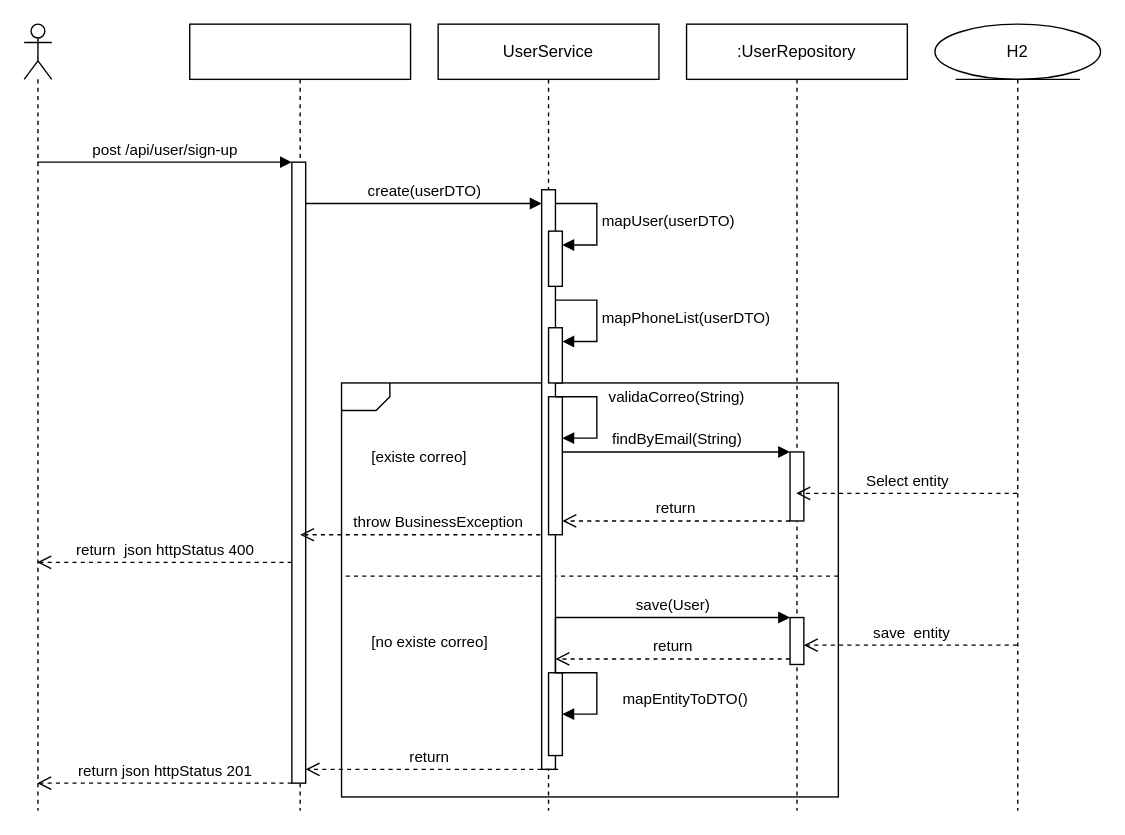
Some shapes in this 1125 by 835 pixel diagram are drawn without their labels. The shapes that lost their labels are listed below. From the top down, each one's box as (x1, y1, x2, y2) in pixels, then its label:
(188, 23, 411, 811): UserController
(340, 382, 838, 797): alt
